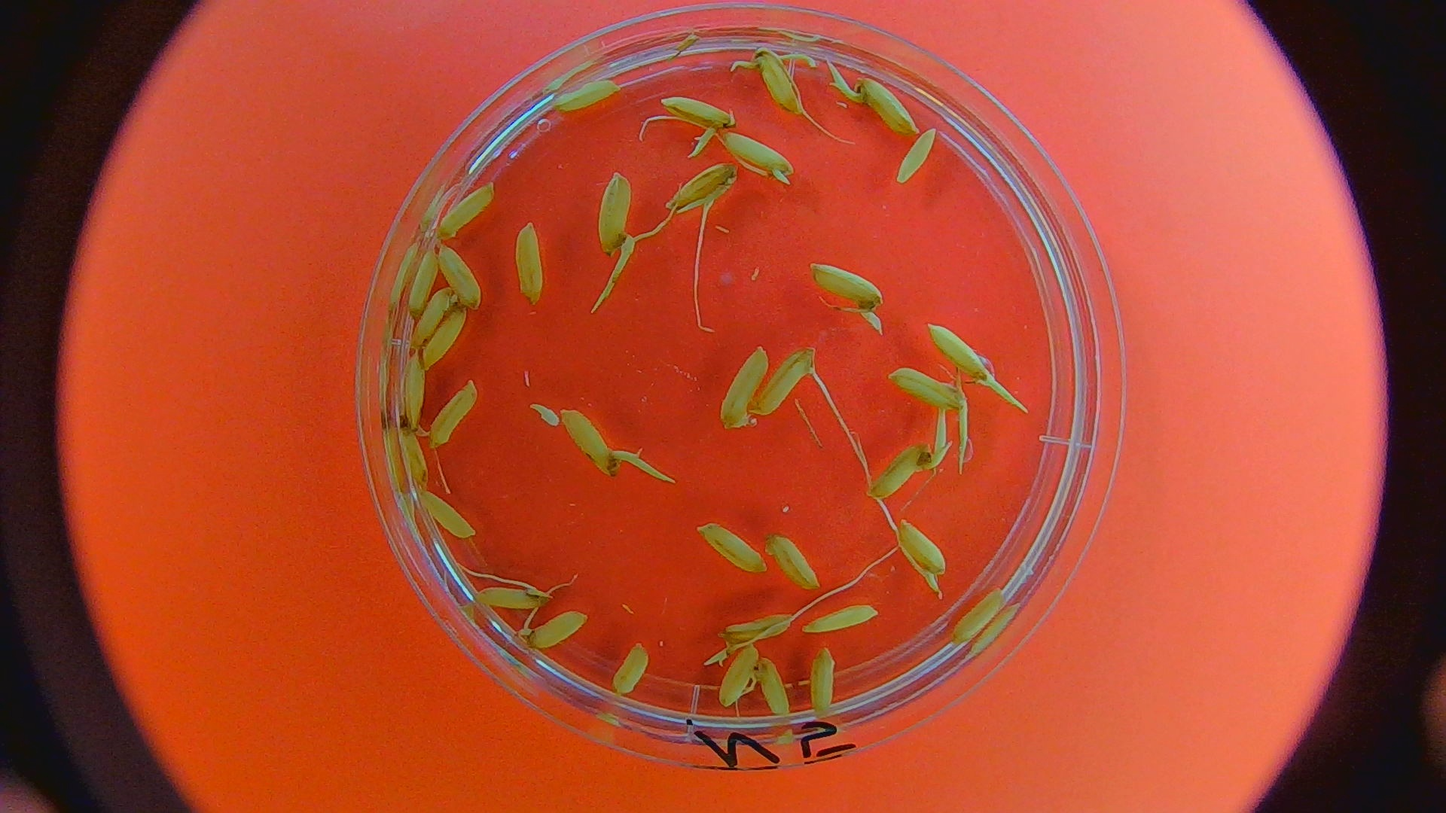no: (718, 340, 771, 432), (761, 531, 824, 596), (700, 526, 772, 579), (427, 376, 477, 452), (405, 280, 457, 352), (950, 584, 1006, 648), (419, 302, 471, 370), (436, 184, 498, 240), (417, 484, 479, 540), (438, 242, 485, 310), (407, 233, 439, 322), (803, 603, 880, 638), (897, 126, 940, 188), (551, 77, 621, 114), (517, 220, 546, 308), (806, 643, 840, 717), (395, 422, 431, 490), (401, 349, 428, 431), (721, 615, 797, 644), (609, 644, 650, 696)
yes: (749, 346, 819, 425), (926, 321, 996, 387), (561, 408, 619, 482), (723, 127, 797, 184), (850, 75, 920, 134), (884, 367, 966, 416), (594, 171, 636, 263), (667, 162, 737, 217), (751, 48, 805, 118), (811, 264, 883, 314), (868, 442, 924, 501), (894, 520, 950, 577), (660, 92, 737, 132), (471, 579, 544, 614), (716, 642, 756, 705), (751, 660, 792, 720), (527, 609, 589, 647)
